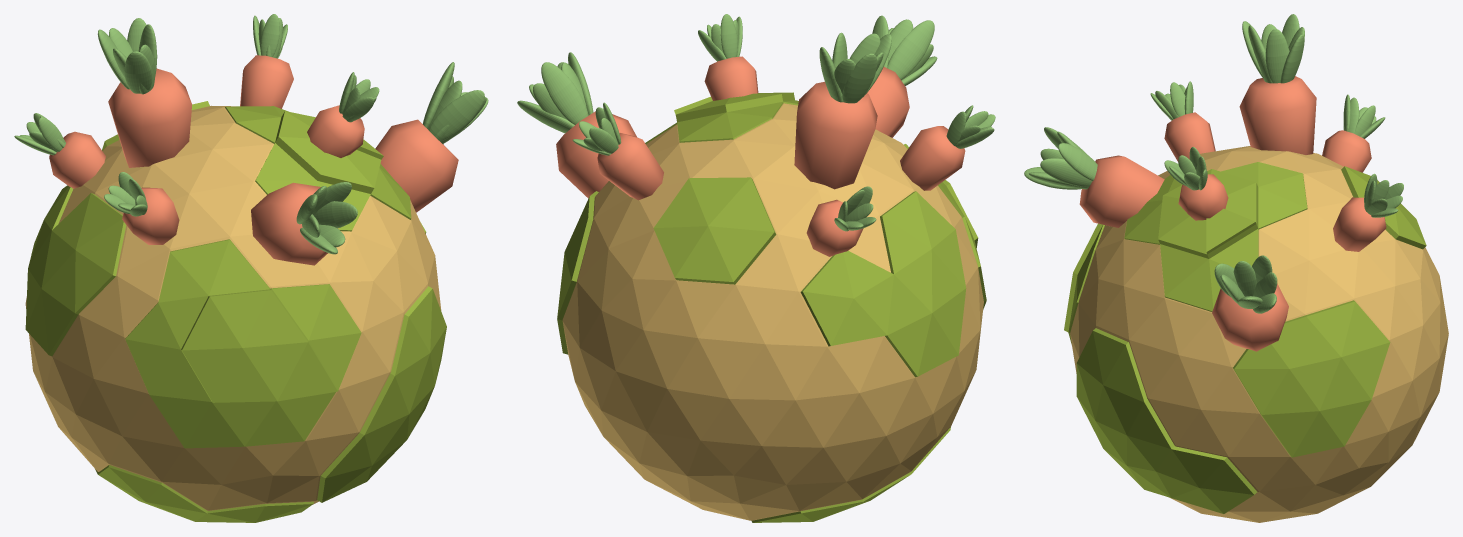
File: havuçgezegeni.fbx
3 renders of one model, left to right at view 1: azimuth 30°, elevation 25°; view 2: azimuth 150°, elevation 25°; view 3: azimuth 270°, elevation 25°, orthographic. The views are drawn at different scales.
Parts seen in each view (by area): view 1: Icosphere; view 2: Icosphere; view 3: Icosphere.
Boxes of the visible parts, left/top/right/bottom form: Icosphere: left=14, top=14, right=488, bottom=522; Icosphere: left=517, top=14, right=995, bottom=522; Icosphere: left=1024, top=14, right=1448, bottom=522.
Size of the model in its own units: 1596 by 1741 by 1506.
